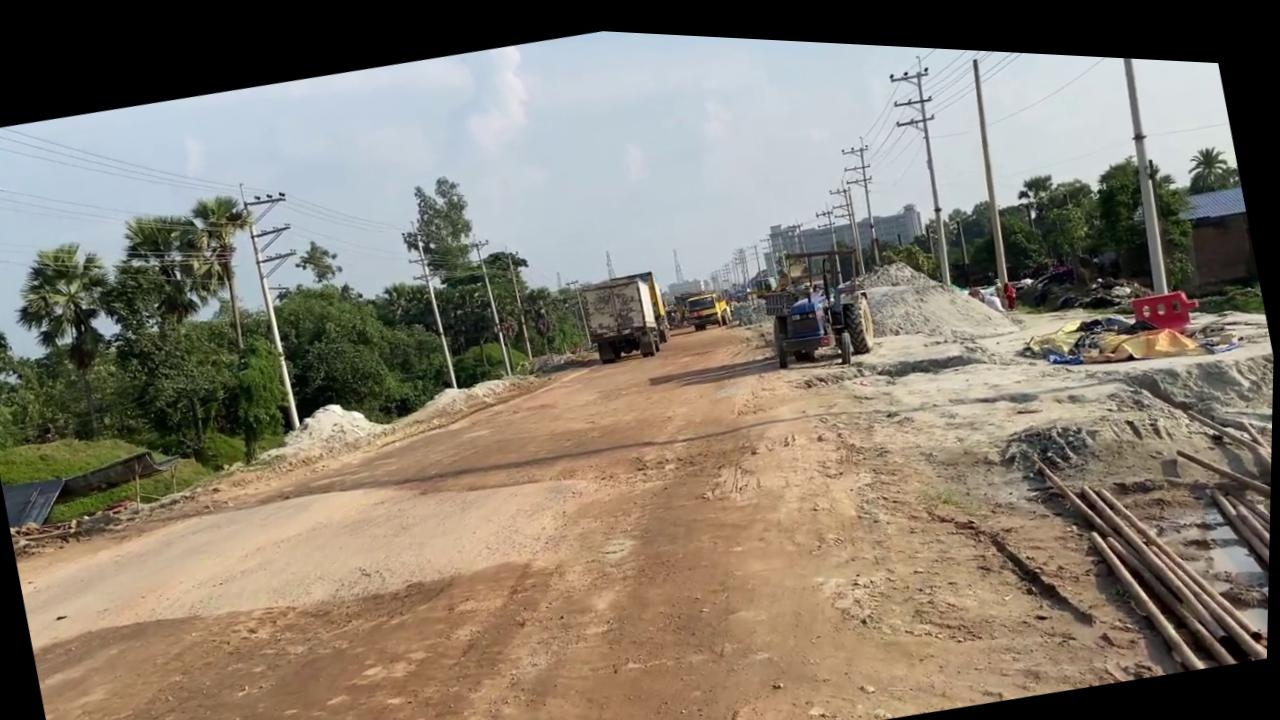Construction-barrier: (1015, 362, 1274, 684), (1129, 270, 1204, 327)
Garbage: (1019, 269, 1244, 380)
Pole: (1082, 44, 1186, 283), (950, 45, 1026, 285), (234, 177, 306, 429)
Traffic-sign: (95, 198, 253, 478), (165, 183, 304, 468), (0, 229, 145, 452), (388, 164, 506, 391)
Tree: (752, 226, 883, 371), (575, 261, 670, 362), (610, 260, 673, 344), (683, 280, 735, 326), (671, 279, 709, 319)
